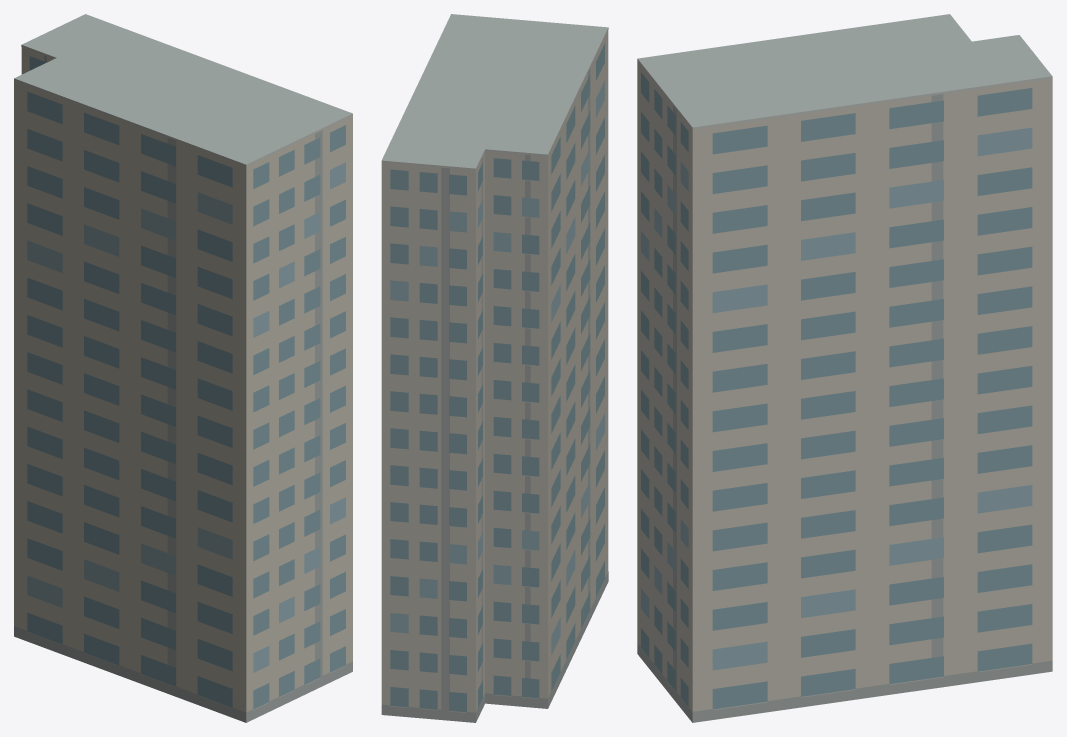
Rendered from residential-0ea9b591-5f58-4e15-bbca-af09ab8b9f7b.glb.
3 views of the same model, side by side, from view 1: azimuth 30°, elevation 25°; view 2: azimuth 150°, elevation 25°; view 3: azimuth 270°, elevation 25° (orthographic). The views are drawn at different scales.
Visible parts, largest first — view 1: residential-0ea9b591-5f58-4e15-bbca-af09ab8b9f7b.tmp; view 2: residential-0ea9b591-5f58-4e15-bbca-af09ab8b9f7b.tmp; view 3: residential-0ea9b591-5f58-4e15-bbca-af09ab8b9f7b.tmp.
Boxes of the visible parts, left/top/right/bottom form: residential-0ea9b591-5f58-4e15-bbca-af09ab8b9f7b.tmp: left=14, top=14, right=352, bottom=722; residential-0ea9b591-5f58-4e15-bbca-af09ab8b9f7b.tmp: left=381, top=14, right=608, bottom=722; residential-0ea9b591-5f58-4e15-bbca-af09ab8b9f7b.tmp: left=637, top=14, right=1052, bottom=722.
Bounding box in the file's own units: 26.18 × 64 × 40.44.
